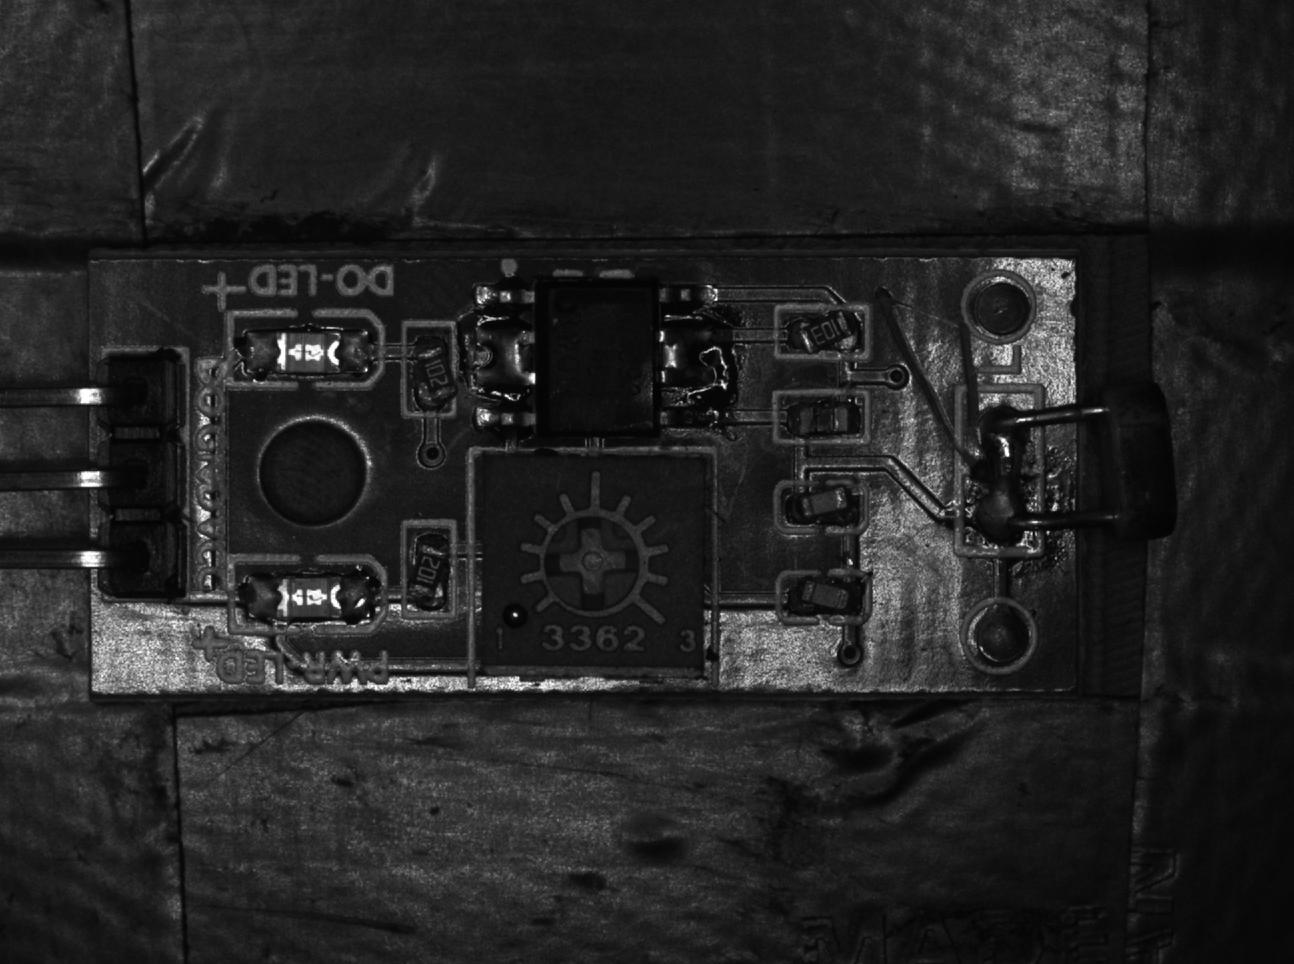bridge: (963, 386, 1041, 545), (656, 316, 727, 392), (476, 317, 535, 397)
lifted: (777, 304, 867, 361), (401, 521, 454, 616), (777, 570, 873, 620), (776, 482, 868, 532), (404, 328, 454, 416)
miss: (775, 393, 866, 443)
